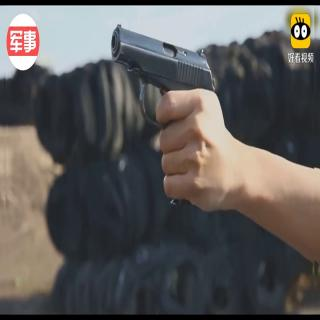gun: (98, 19, 226, 152)
